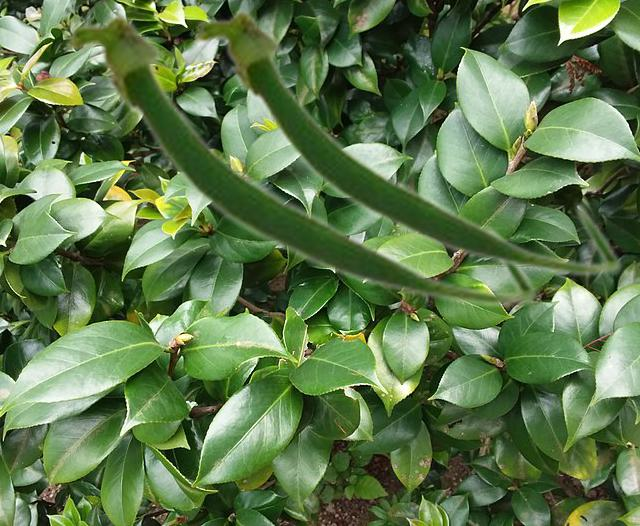french_bean: (61, 8, 539, 309), (190, 5, 623, 278)
